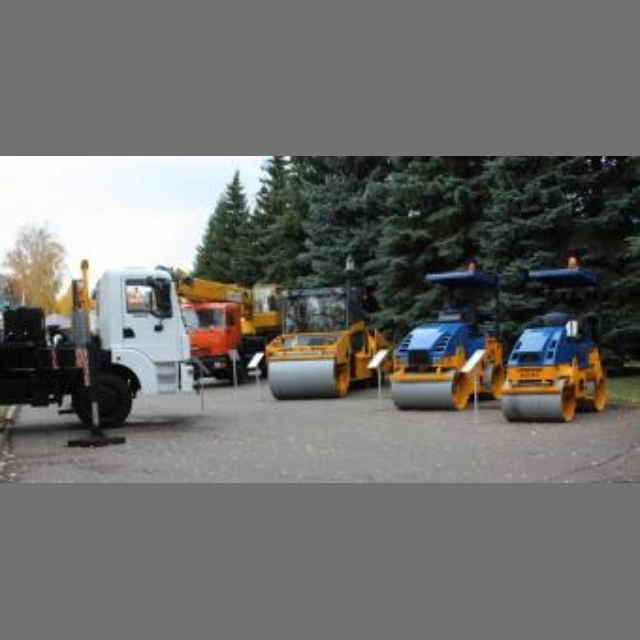Рабочая техника: (0, 259, 180, 445), (502, 271, 603, 419), (394, 273, 502, 411), (267, 285, 390, 398)
